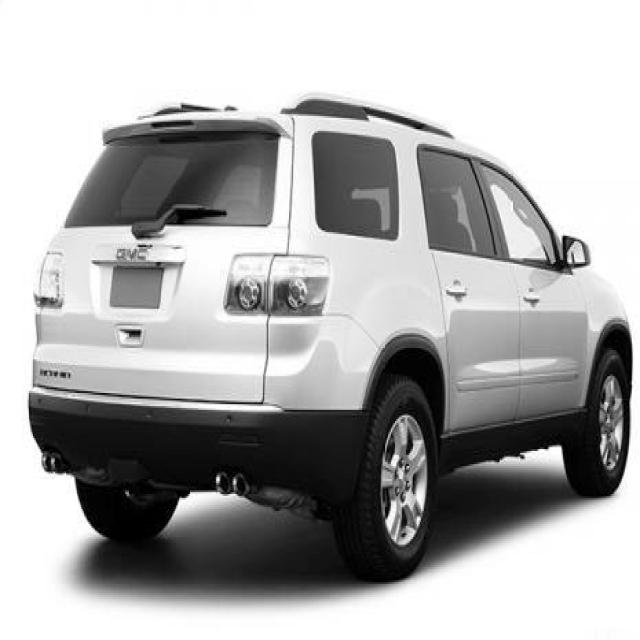car: (26, 90, 633, 582)
